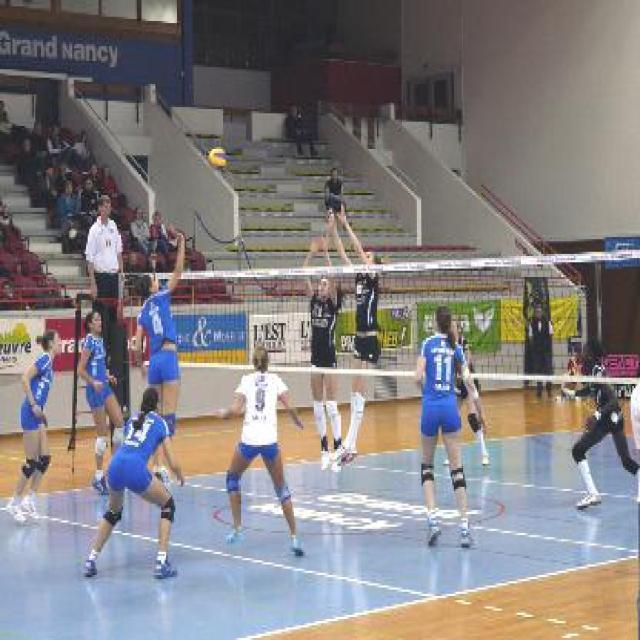volleyball: (208, 148, 228, 170)
